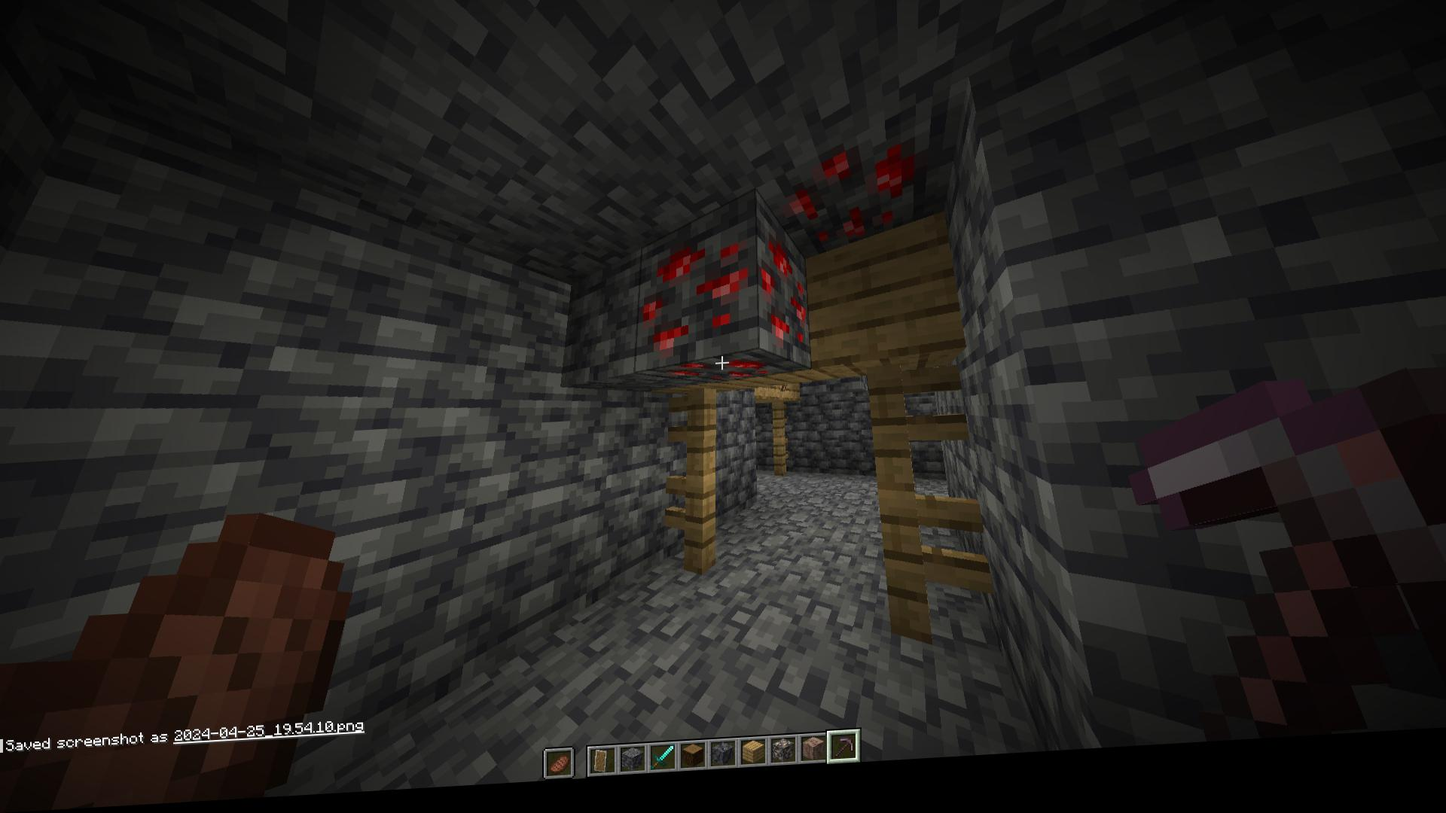redstone ore: (767, 146, 931, 259), (638, 234, 757, 360), (760, 236, 812, 372), (668, 363, 780, 394)
